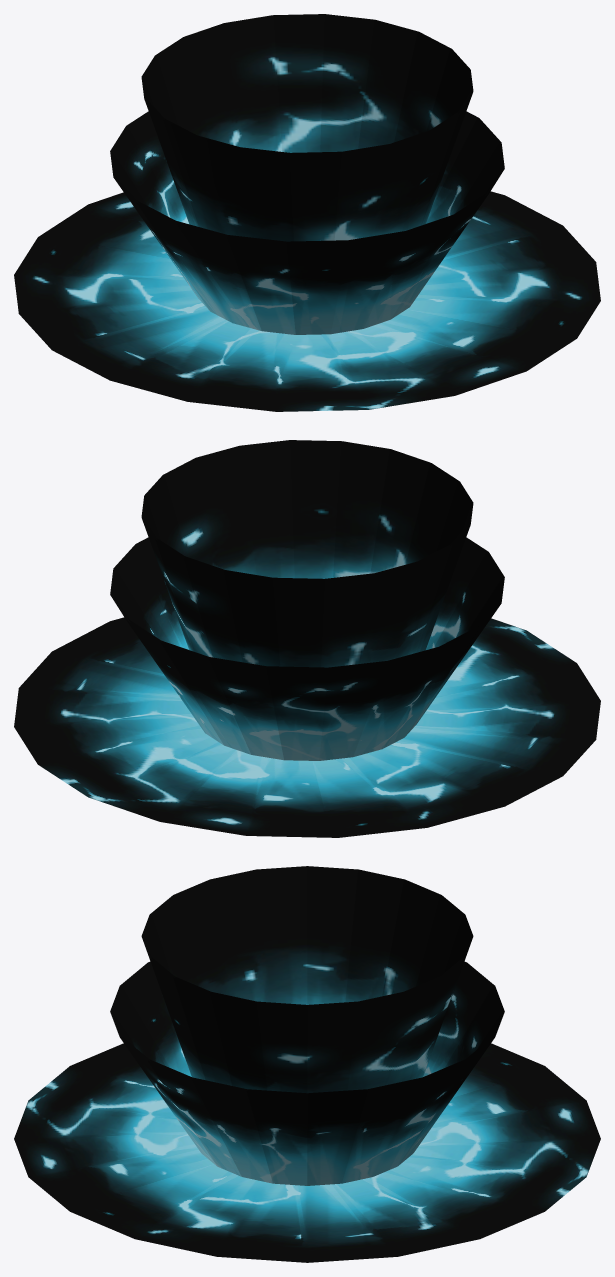
The model's file is Meteor_Explosion_Effect_2.FBX.
3 renders of one model, top to bottom at view 1: azimuth 30°, elevation 25°; view 2: azimuth 150°, elevation 25°; view 3: azimuth 270°, elevation 25°, orthographic.
Visible parts, largest first — view 1: Bolt_ImpactShape; view 2: Bolt_ImpactShape; view 3: Bolt_ImpactShape.
Part boxes in pixels (x1,y1,x2,y2): Bolt_ImpactShape: (14,14,600,411); Bolt_ImpactShape: (14,440,600,837); Bolt_ImpactShape: (14,866,600,1262).
Bounding box in the file's own units: 123 × 46.86 × 123.
